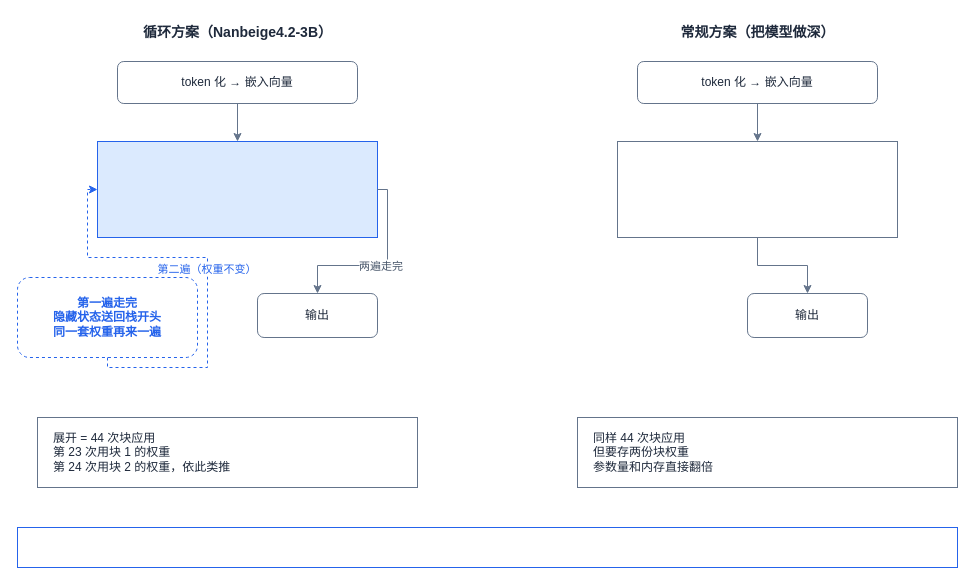
This 975x585 diagram has some shape labels left out. The centre of each missing label's shape, as x and y in pixels:
22 个 Transformer 块 块 1 → 块 2 → … → 块 22 （每块一套权重，只存这一份）: (237,189)
44 个独立 Transformer 块 每块各有一套权重: (757,189)
成本账：省参数和内存 ✔ ；计算不省 ✘（前向反向照样走 44 次）；KV 缓存不省 ✘（两轮键值各不相同，各存各的）: (487,547)
